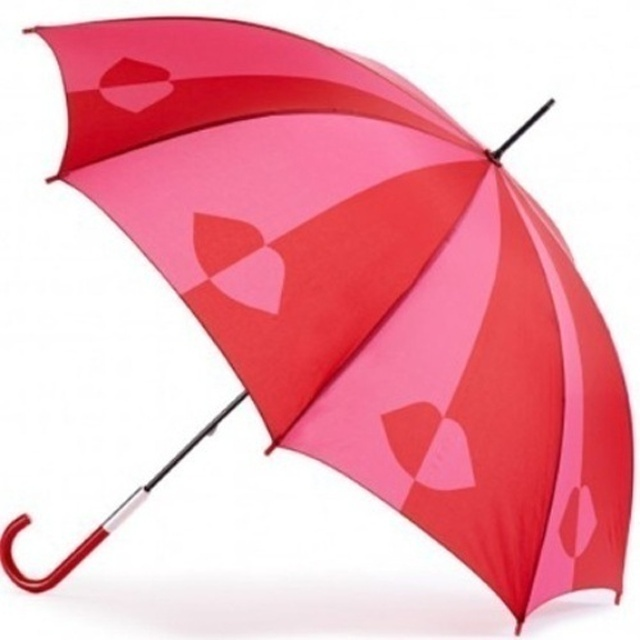umbrella: (1, 11, 640, 640)
